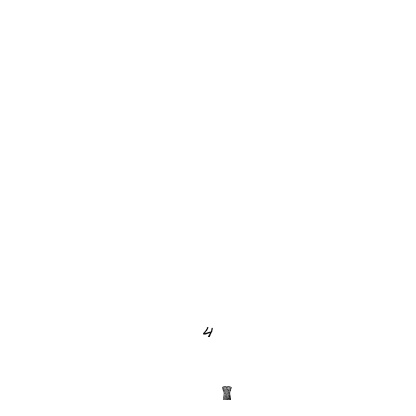4: (201, 325, 215, 339)
Shirt: (220, 386, 234, 400)
